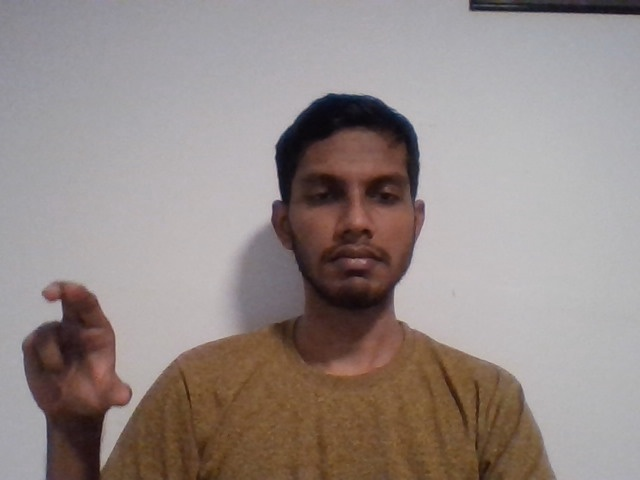no: (13, 273, 139, 424)
